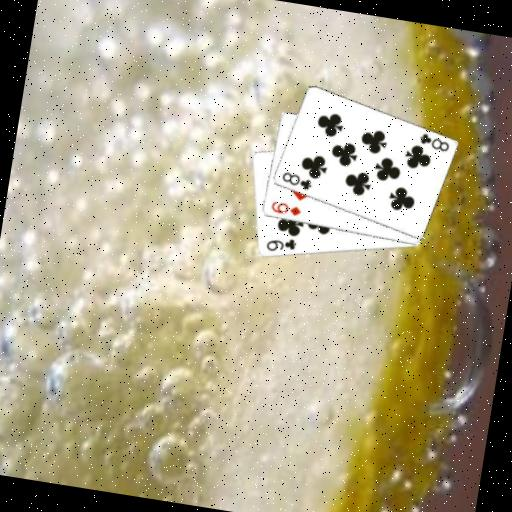6D: (267, 198, 303, 218)
8C: (276, 168, 314, 192), (414, 130, 452, 154)
9C: (262, 232, 299, 257)
